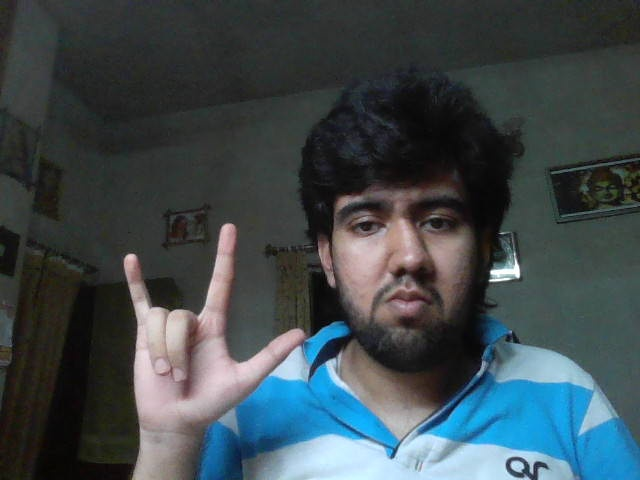ILoveYou: (123, 223, 305, 431)
